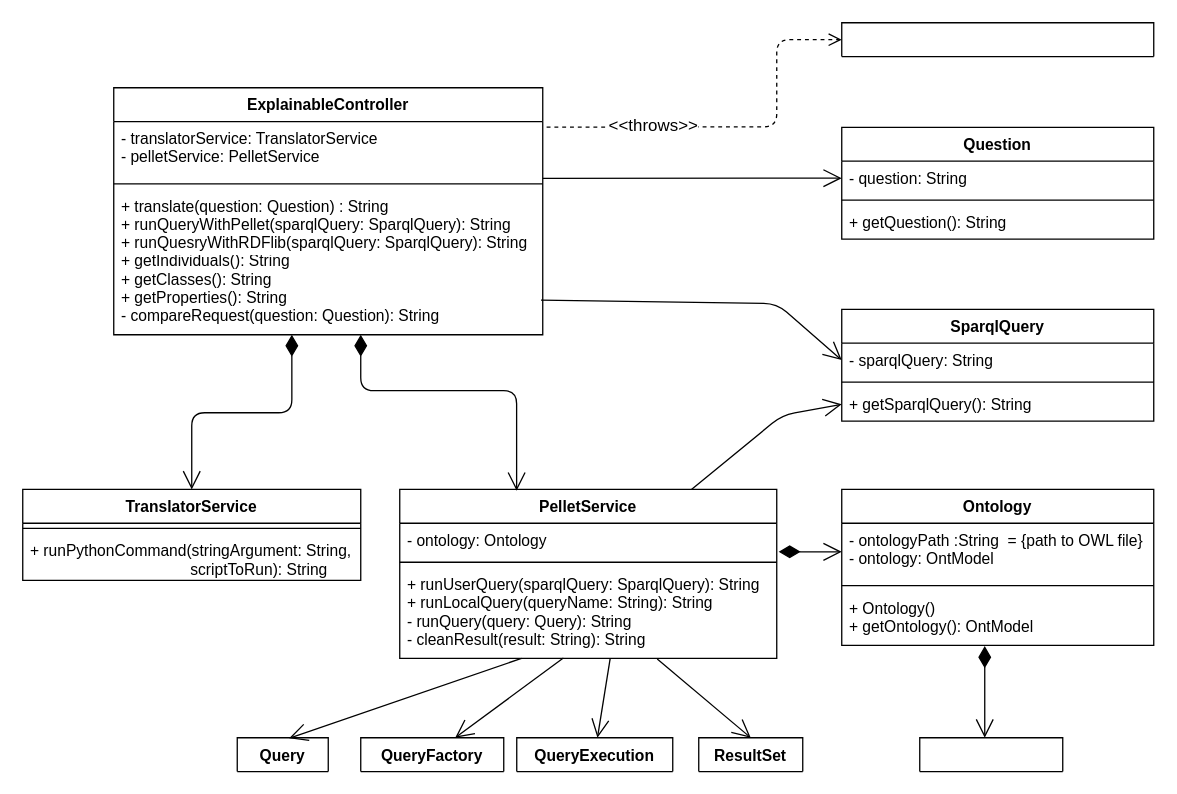
The diagram is 1177 pixels wide and 794 high, and some of its shapes have lost their labels. Here are the shapes that lost their labels. From the top down, the centre of each, then its label:
the point at 997,39: ResponseStatusException
the point at 990,754: OntologyModel
